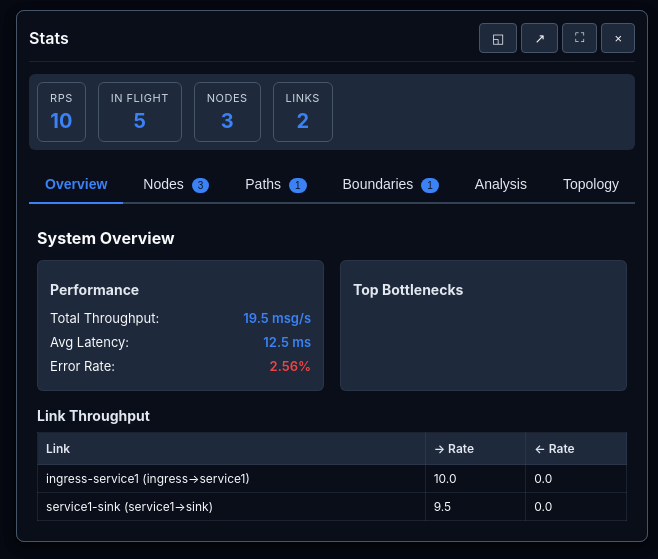
Test: StatsOverlayEnhanced with Real Metrics › shows zero drop rate when no errors
The width and height of the screenshot is (658, 559).
Click the button with class "stats-tab" showing "Paths 1": click(276, 184) [229, 166, 323, 202]
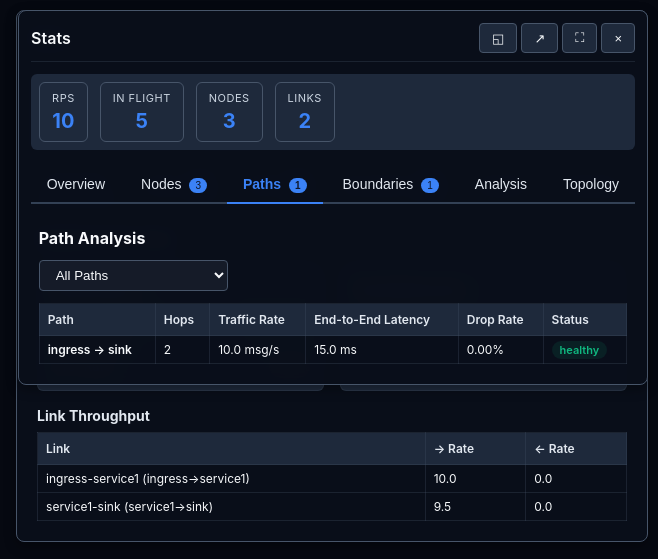
Result: the table with class "stats-table" shows "0.00%" at [467, 342, 504, 357]
